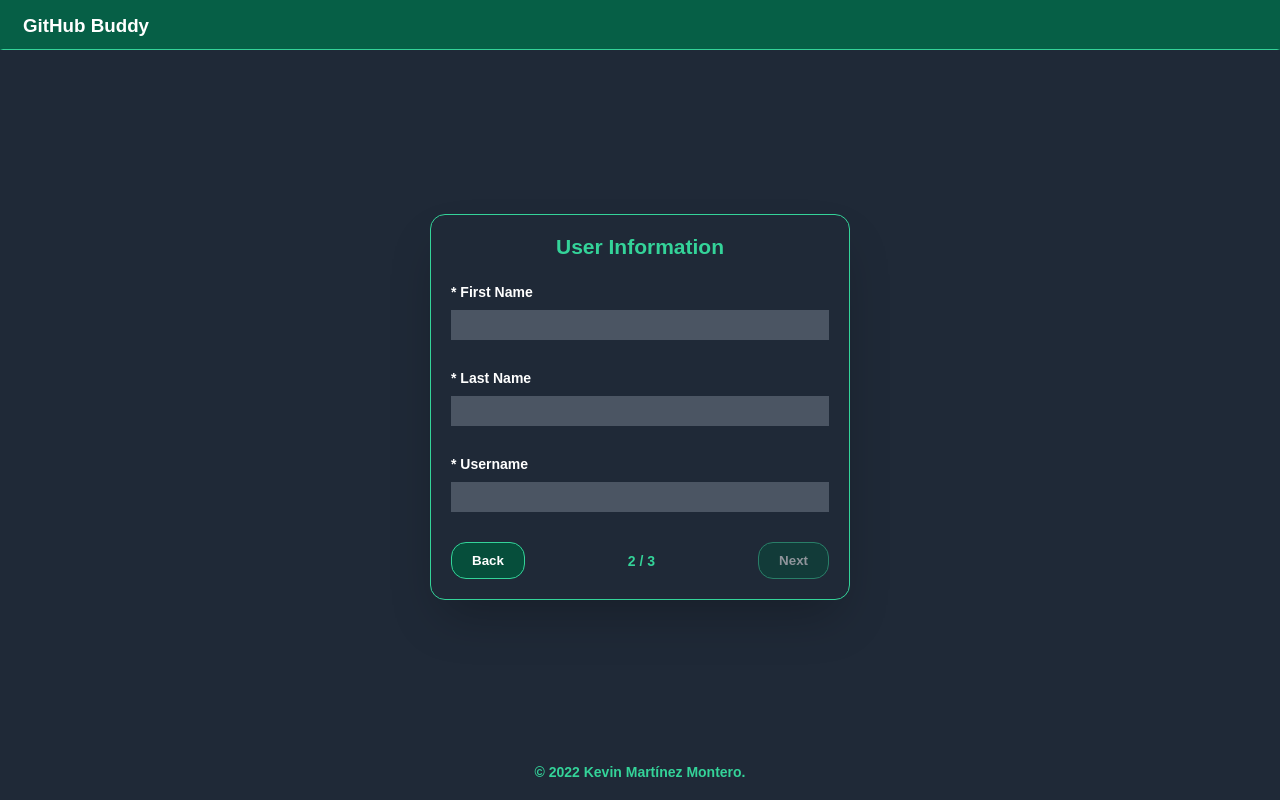
Test: Form One › should show error for required first name
Focus the field labelled "* First Name" at coordinates (640, 325), box x1=451 y1=310 x2=829 y2=340
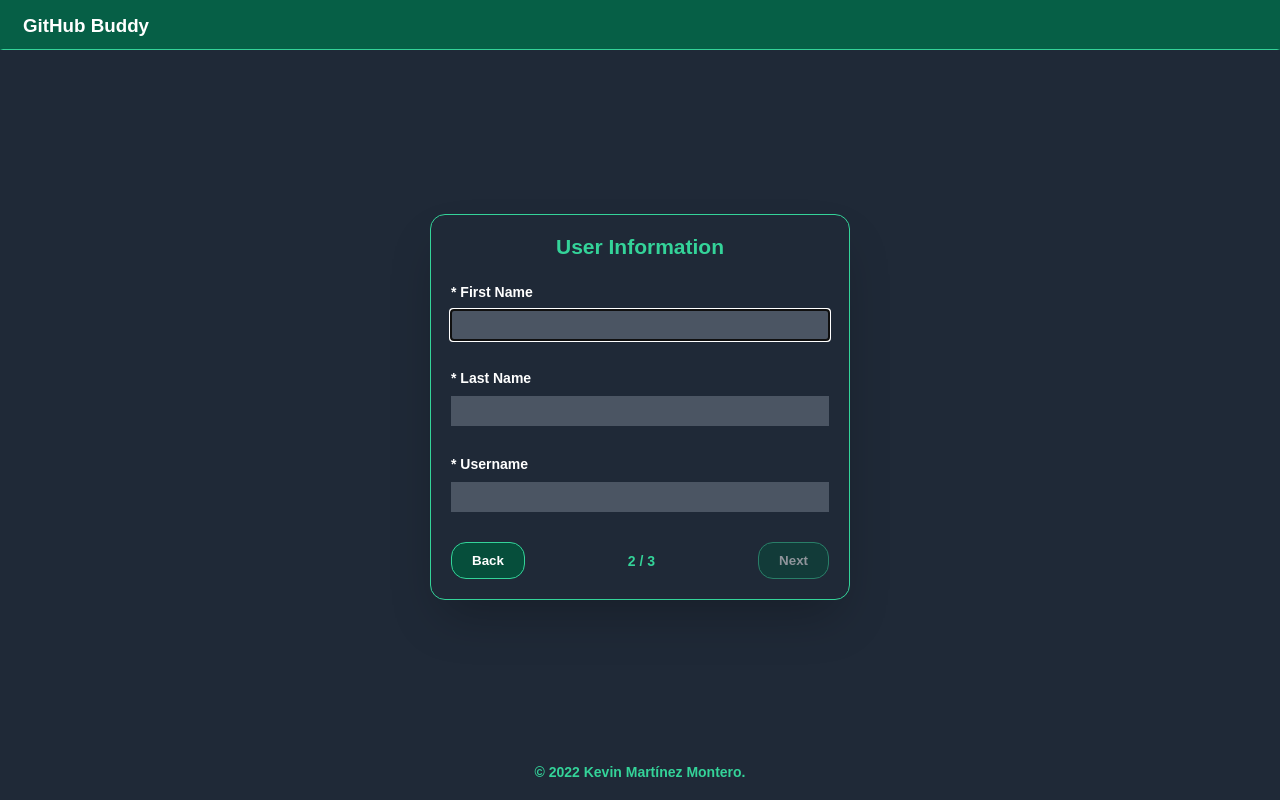
Focus the field labelled "* Last Name" at coordinates (640, 411), box x1=451 y1=396 x2=829 y2=426
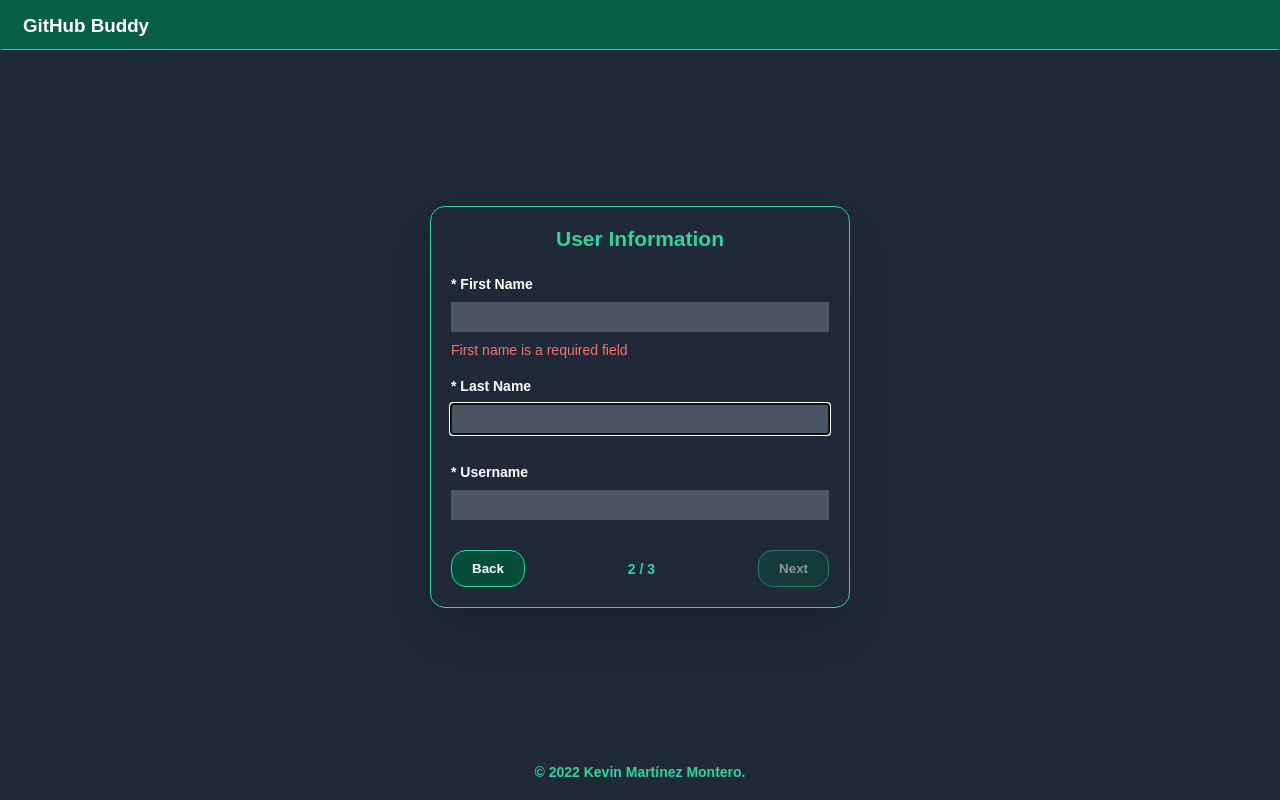
Result: the message "First name is a required field" is shown at x1=451 y1=342 x2=628 y2=358
